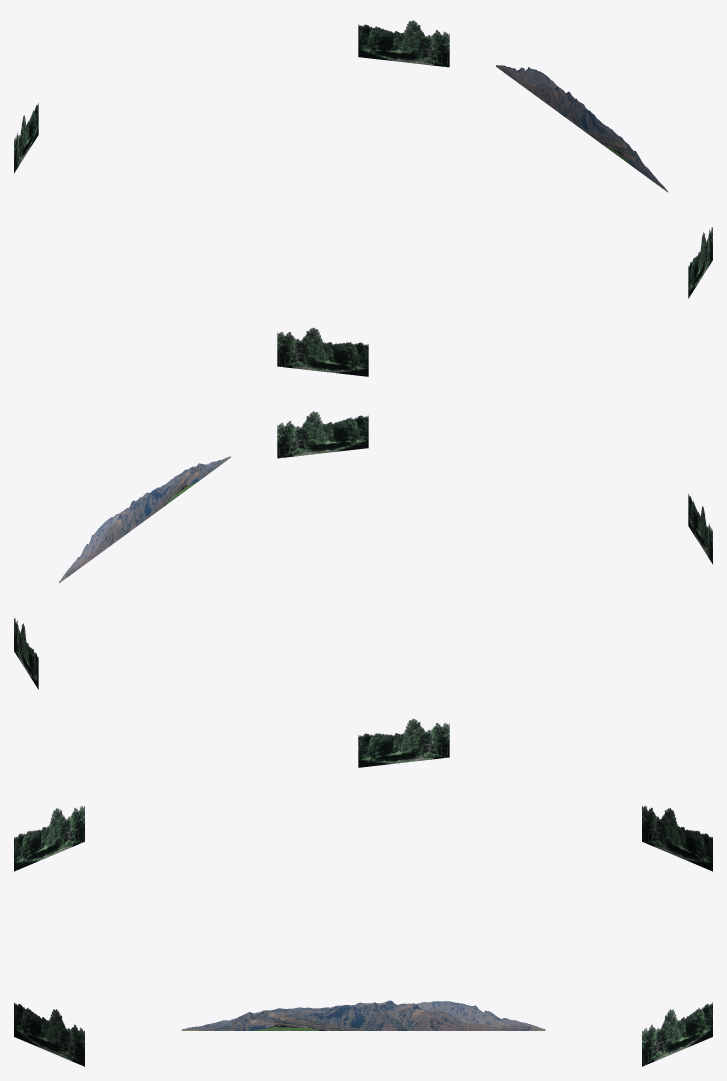
3 renders of one model, top to bottom at view 1: azimuth 30°, elevation 25°; view 2: azimuth 150°, elevation 25°; view 3: azimuth 270°, elevation 25°, orthographic. The views are drawn at different scales.
Bounding box in the file's own units: 123 × 17.08 × 161.
Materials: 6 (6 with a texture image).
